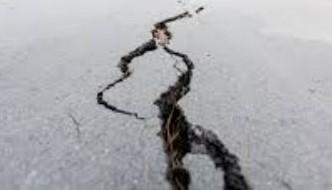crack: (90, 12, 245, 190)
